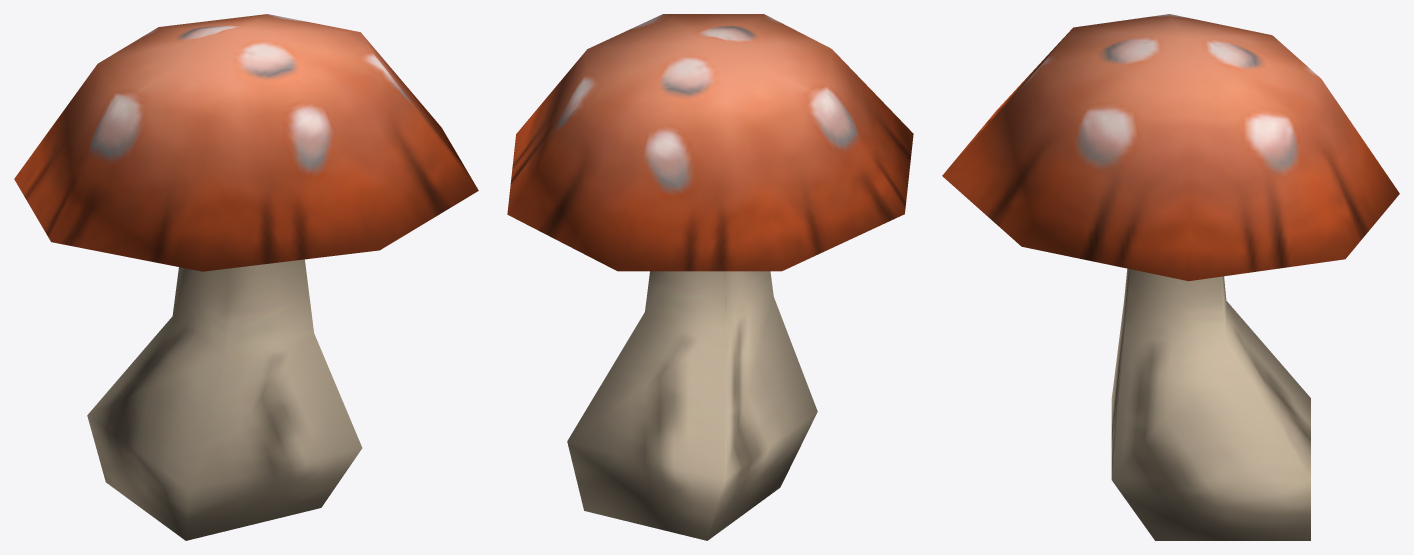
File: mushroomB.fbx
The picture shows the model from 3 angles, left to right: view 1: azimuth 30°, elevation 25°; view 2: azimuth 150°, elevation 25°; view 3: azimuth 270°, elevation 25°; orthographic projection. The views are drawn at different scales.
Parts seen in each view (by area): view 1: mushroomB; view 2: mushroomB; view 3: mushroomB.
Boxes of the visible parts, x1,y1,x2,y2 form: mushroomB: (14, 14, 478, 540); mushroomB: (507, 14, 913, 540); mushroomB: (942, 14, 1399, 540).
Bounding box in the file's own units: 38.12 × 43.05 × 38.01.
Materials: 1 (1 with a texture image).
